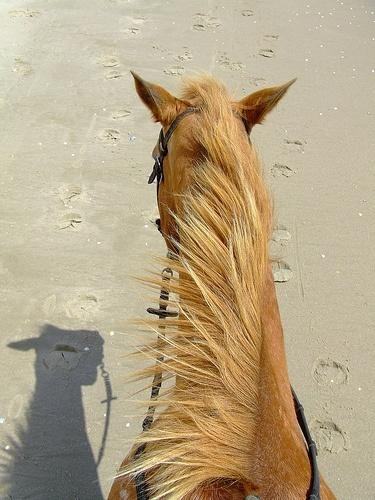horse: (103, 64, 343, 500)
